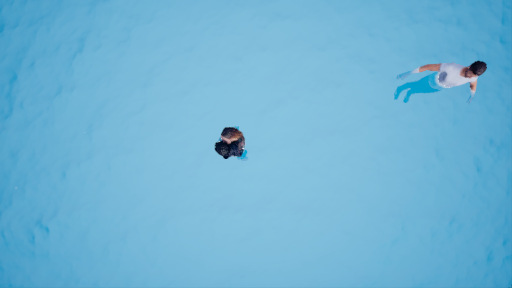person: (381, 56, 490, 107), (212, 127, 249, 162)
